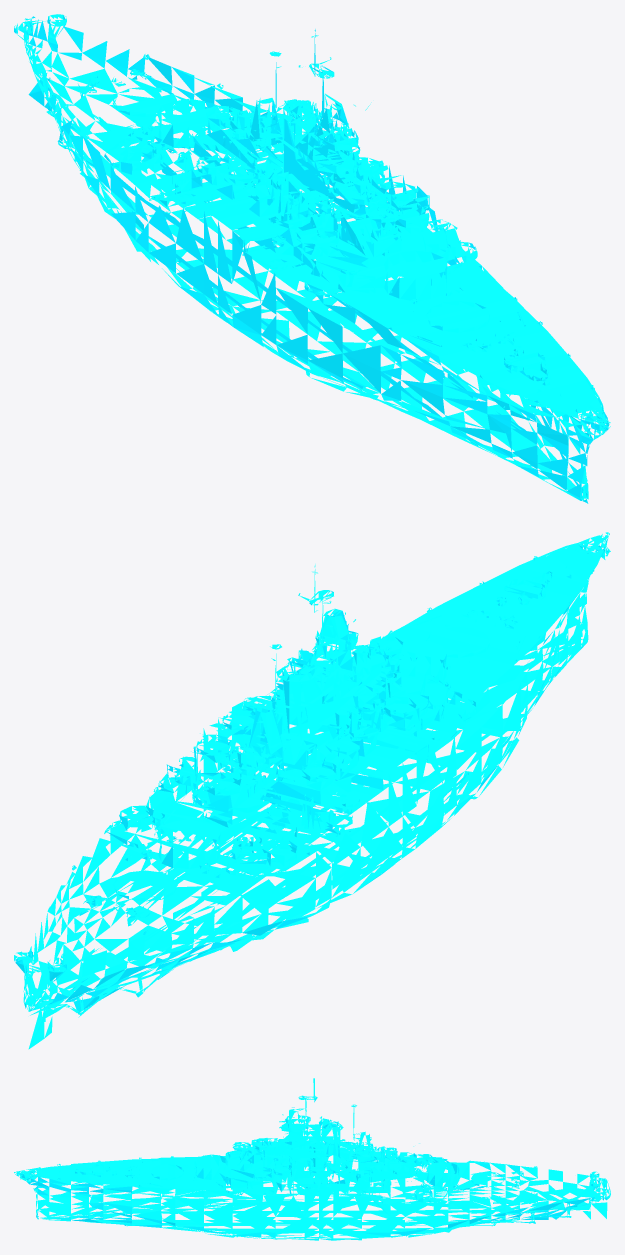
File: Volunteer_State.glb
The picture shows the model from 3 angles, top to bottom: view 1: azimuth 30°, elevation 25°; view 2: azimuth 150°, elevation 25°; view 3: azimuth 270°, elevation 25°; orthographic projection. The views are drawn at different scales.
Bounding box in the file's own units: 2.35 × 3.32 × 12.66.
